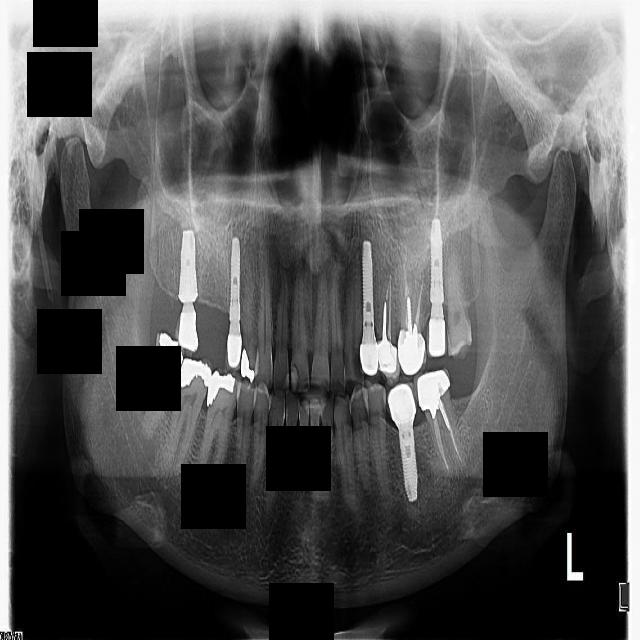55: (399, 421, 420, 500), (176, 232, 198, 304), (429, 218, 444, 320), (228, 238, 241, 325), (363, 239, 374, 327)
71: (374, 300, 392, 365), (435, 391, 453, 432), (406, 294, 413, 339)
74: (431, 408, 448, 474), (414, 277, 423, 328), (449, 432, 463, 462), (387, 276, 391, 340), (403, 261, 410, 296), (385, 274, 392, 300)
NucleOSS Implant: (154, 329, 192, 372), (178, 355, 213, 390), (206, 369, 235, 409), (235, 346, 257, 384), (401, 322, 420, 358)
Sterngold Implant: (347, 347, 365, 386)
Straumann Implant: (290, 362, 299, 391), (283, 371, 288, 391)
Zimmer Implant: (385, 376, 418, 429), (412, 369, 453, 410), (395, 327, 429, 376), (172, 302, 199, 358), (357, 325, 380, 384), (376, 338, 401, 387), (223, 322, 245, 372), (425, 317, 447, 358)
